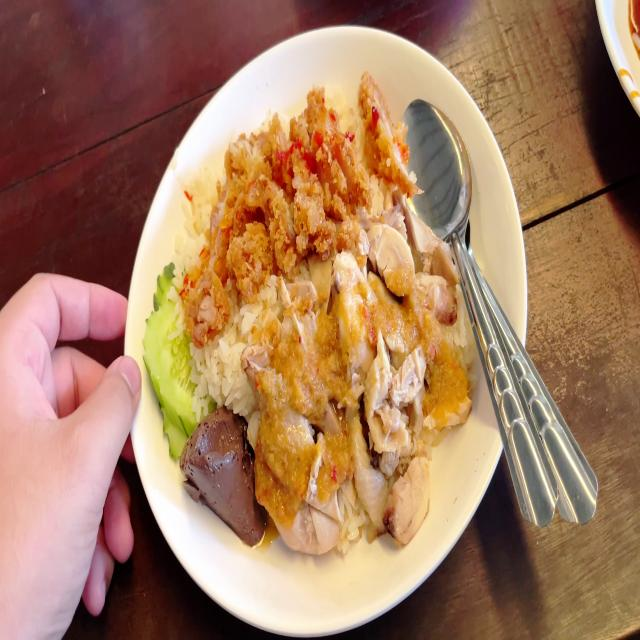boiled_chicken: (270, 224, 454, 521)
boiled_chicken_blood_jelly: (189, 401, 260, 537)
chicken_rice: (146, 76, 466, 558)
cucumber: (137, 248, 210, 461)
fried_chicken: (184, 107, 384, 255)
